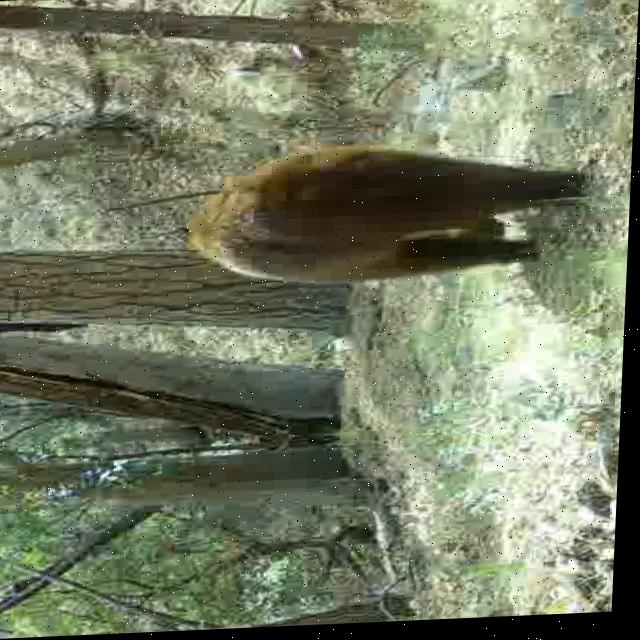bear face: (185, 141, 590, 292), (0, 316, 91, 338)
